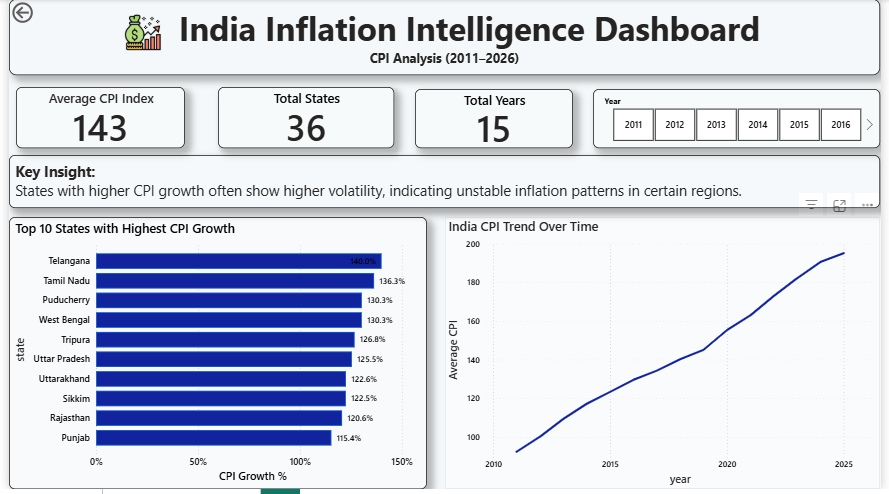

This screenshot's page, from the dashboard's own definition file:
{"tool":"powerbi","page":{"name":"Inflation Overview","canvas":[1280,720],"ordinal":0},"visuals":[{"type":"lineChart","title":"India CPI Trend Over Time","fields":{"Category":["clean_cpi_data.year"],"Y":["clean_cpi_data.Average CPI"]},"box":[640.7,320.3,639.2,399.7],"z":0},{"type":"textbox","box":[0,0,1279.8,111.7],"z":1000},{"type":"image","box":[164.6,16.8,63.8,65.5],"z":2000},{"type":"card","title":"Average CPI Index","fields":{"Values":["clean_cpi_data.Average CPI"]},"box":[10.3,129.3,248.3,89.6],"z":3000},{"type":"card","title":"Total States","fields":{"Values":["clean_cpi_data.Total States"]},"box":[307.1,129.3,258.6,89.6],"z":4000},{"type":"actionButton","box":[0,0,100,40],"z":5000},{"type":"card","title":"Total Years","fields":{"Values":["clean_cpi_data.Years Covered"]},"box":[596.6,132.2,232.2,86.7],"z":6000},{"type":"clusteredBarChart","title":"Top 10 States with Highest CPI Growth","fields":{"Category":["clean_cpi_data.state"],"Y":["clean_cpi_data.CPI Growth %"]},"box":[0,320.3,614.2,399.7],"z":7000},{"type":"slicer","fields":{"Values":["clean_cpi_data.year"]},"box":[858.1,132.2,421.7,86.7],"z":8000},{"type":"textbox","box":[0,229.2,1279.8,77.9],"z":8001}]}

Visuals, with their boxes on the page's 1280x720 design canvas (x1, y1, x2, y2). These are canvas units, not pixel positions in the 889x494 screenshot, which may show the page scaled, cropped or inside an application window:
"India CPI Trend Over Time" lineChart: (641, 320, 1280, 720)
textbox: (0, 0, 1280, 112)
image: (165, 17, 228, 82)
"Average CPI Index" card: (10, 129, 259, 219)
"Total States" card: (307, 129, 566, 219)
actionButton: (0, 0, 100, 40)
"Total Years" card: (597, 132, 829, 219)
"Top 10 States with Highest CPI Growth" clusteredBarChart: (0, 320, 614, 720)
slicer - clean_cpi_data.year: (858, 132, 1280, 219)
textbox: (0, 229, 1280, 307)
